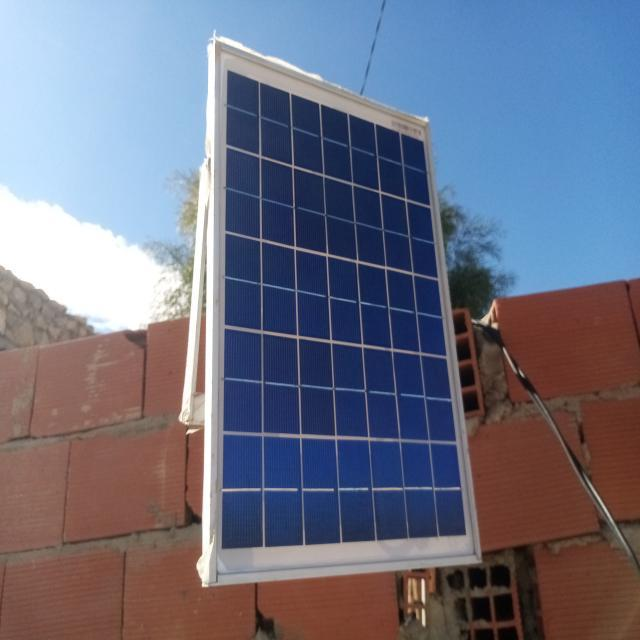no faulty: (208, 41, 477, 578)
